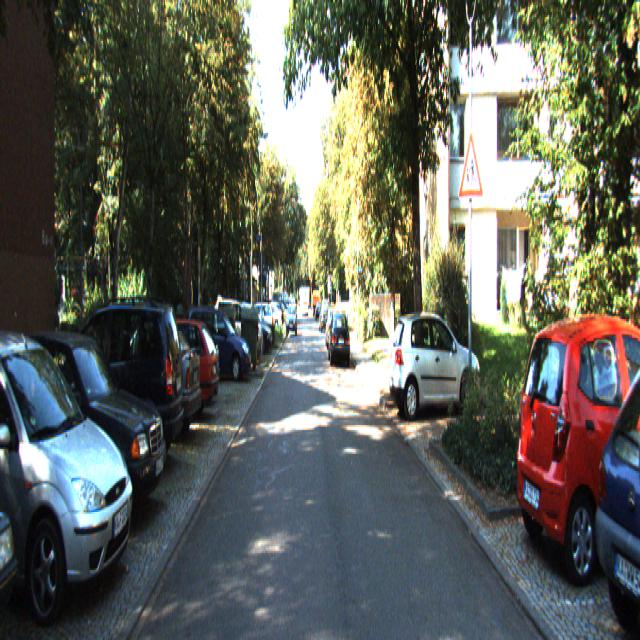Car: (0, 332, 138, 622), (0, 320, 171, 537), (514, 312, 640, 593), (33, 290, 187, 488), (86, 317, 203, 449), (591, 338, 640, 638), (124, 316, 221, 432), (389, 310, 484, 424), (185, 306, 253, 386), (328, 313, 351, 368)
